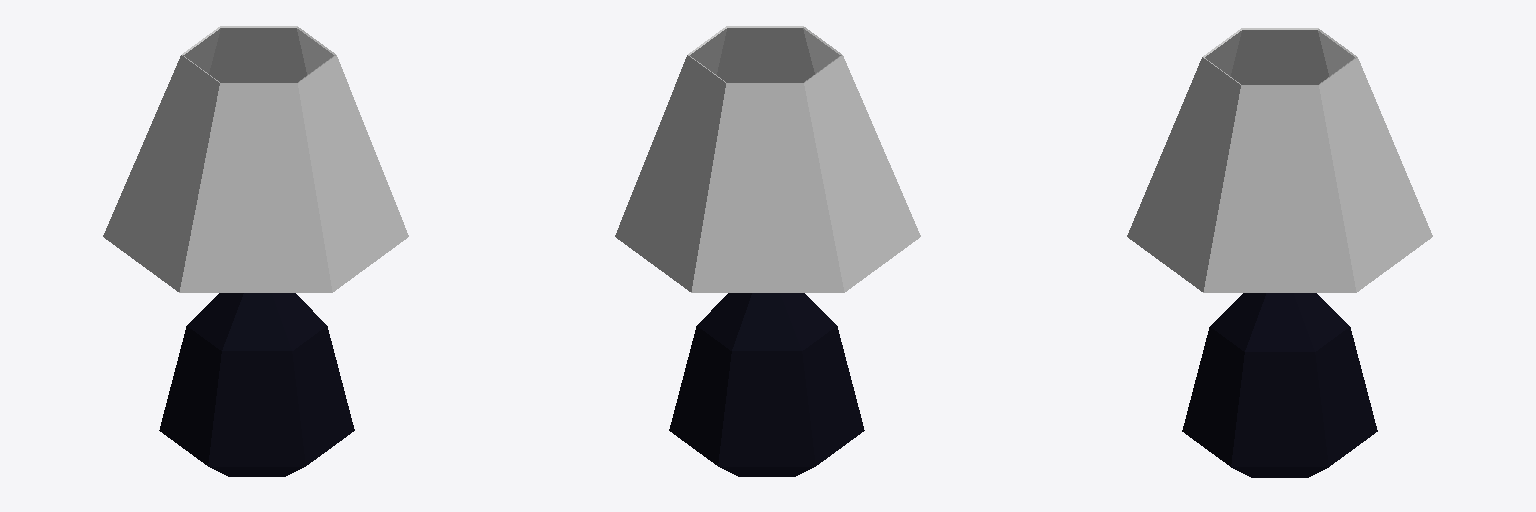
File: Lamp.obj
The picture shows the model from 3 angles: view 1: azimuth 30°, elevation 25°; view 2: azimuth 150°, elevation 25°; view 3: azimuth 270°, elevation 25°; orthographic projection.
Parts seen in each view (by area): view 1: Lamp_Lamp_Circle.002; view 2: Lamp_Lamp_Circle.002; view 3: Lamp_Lamp_Circle.002.
Boxes of the visible parts, box(x1,y1,x2,y2) form: Lamp_Lamp_Circle.002: box(103, 26, 408, 476); Lamp_Lamp_Circle.002: box(615, 26, 920, 476); Lamp_Lamp_Circle.002: box(1127, 28, 1432, 477).
Bounding box in the file's own units: 1.1 × 1.83 × 1.27.